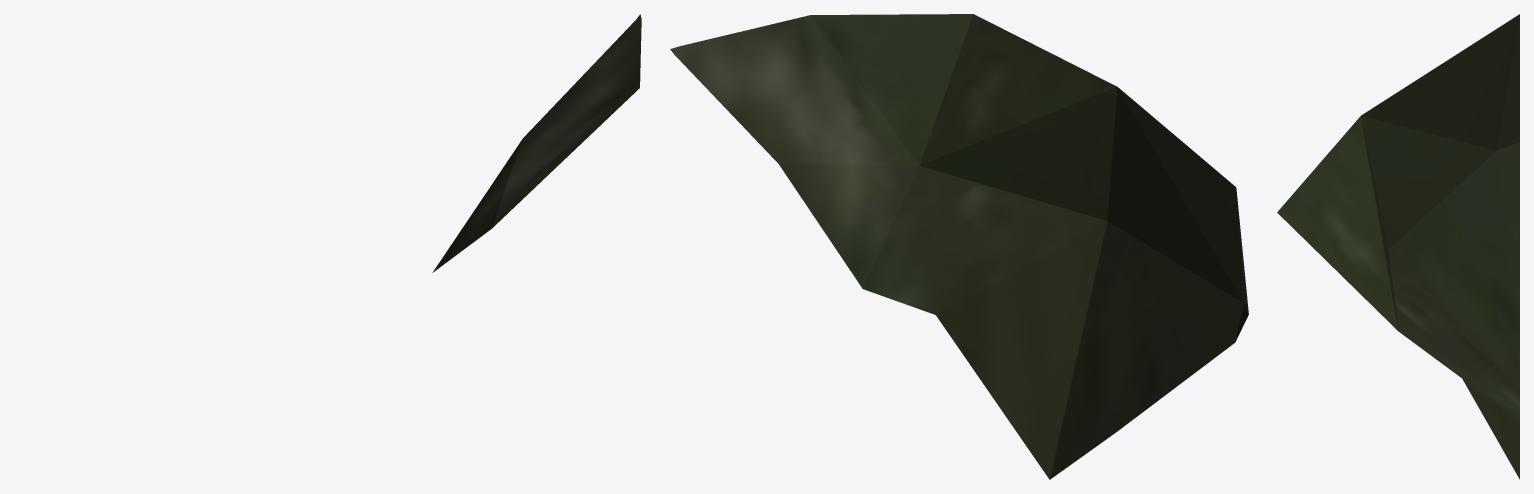
3 views of the same model, side by side, from view 1: azimuth 30°, elevation 25°; view 2: azimuth 150°, elevation 25°; view 3: azimuth 270°, elevation 25° (orthographic). The views are drawn at different scales.
Bounding box in the file's own units: 0.9609 × 0.5364 × 0.3217.
1 material, 1 textured.
